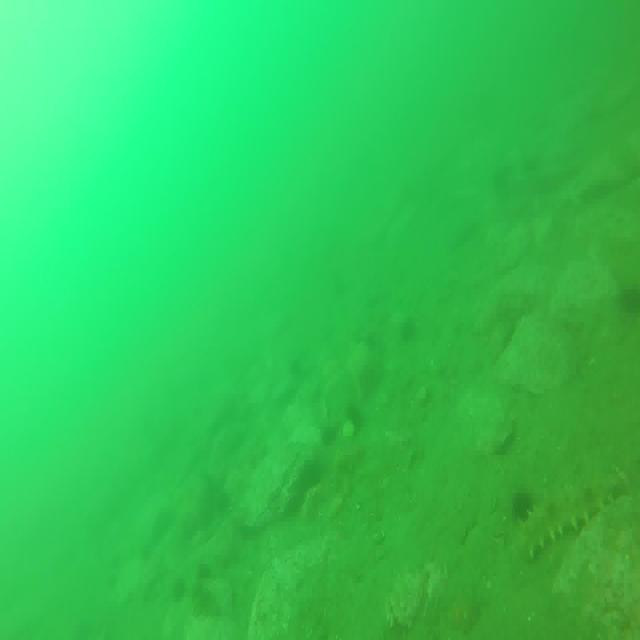echinus: (509, 486, 538, 530)
holothurian: (517, 470, 617, 561)
